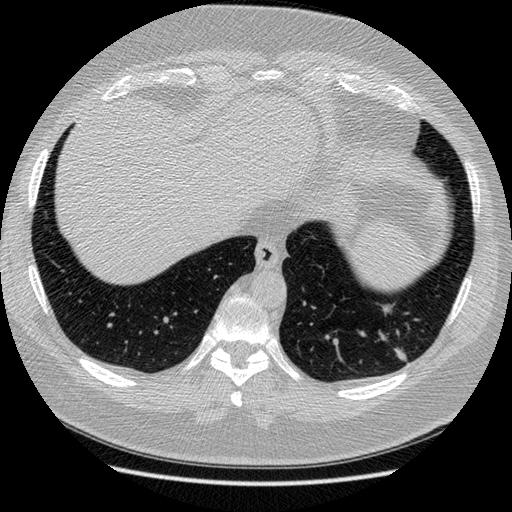nodule: (378, 299, 395, 316)
